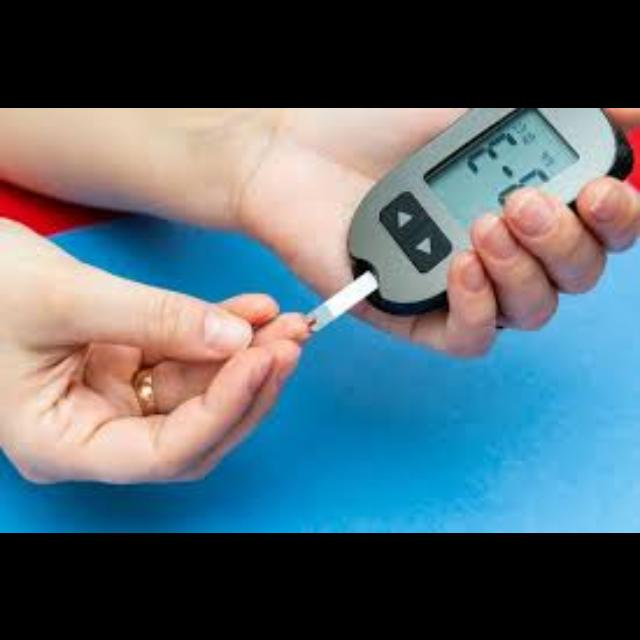Glucose-Meter: (307, 107, 630, 330)
